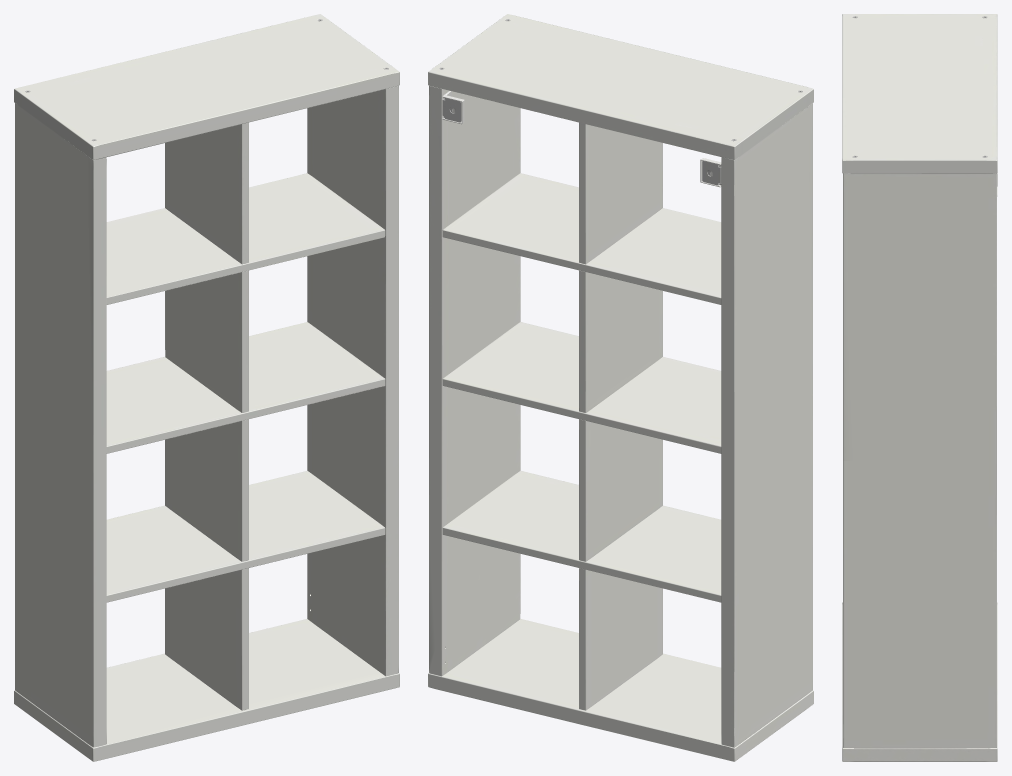
The model's file is flysta_rega_30377242.glb.
The picture shows the model from 3 angles, left to right: view 1: azimuth 30°, elevation 25°; view 2: azimuth 150°, elevation 25°; view 3: azimuth 270°, elevation 25°; orthographic projection. The views are drawn at different scales.
Parts seen in each view (by area): view 1: flysta_rega_30377242; view 2: flysta_rega_30377242; view 3: flysta_rega_30377242.
Part boxes in pixels (bbox=[...]): flysta_rega_30377242: bbox=[14, 14, 399, 761]; flysta_rega_30377242: bbox=[428, 14, 813, 761]; flysta_rega_30377242: bbox=[842, 14, 997, 761].
Size of the model in its own units: 0.685 by 1.31 by 0.307.
Materials: 1 (1 with a texture image).
